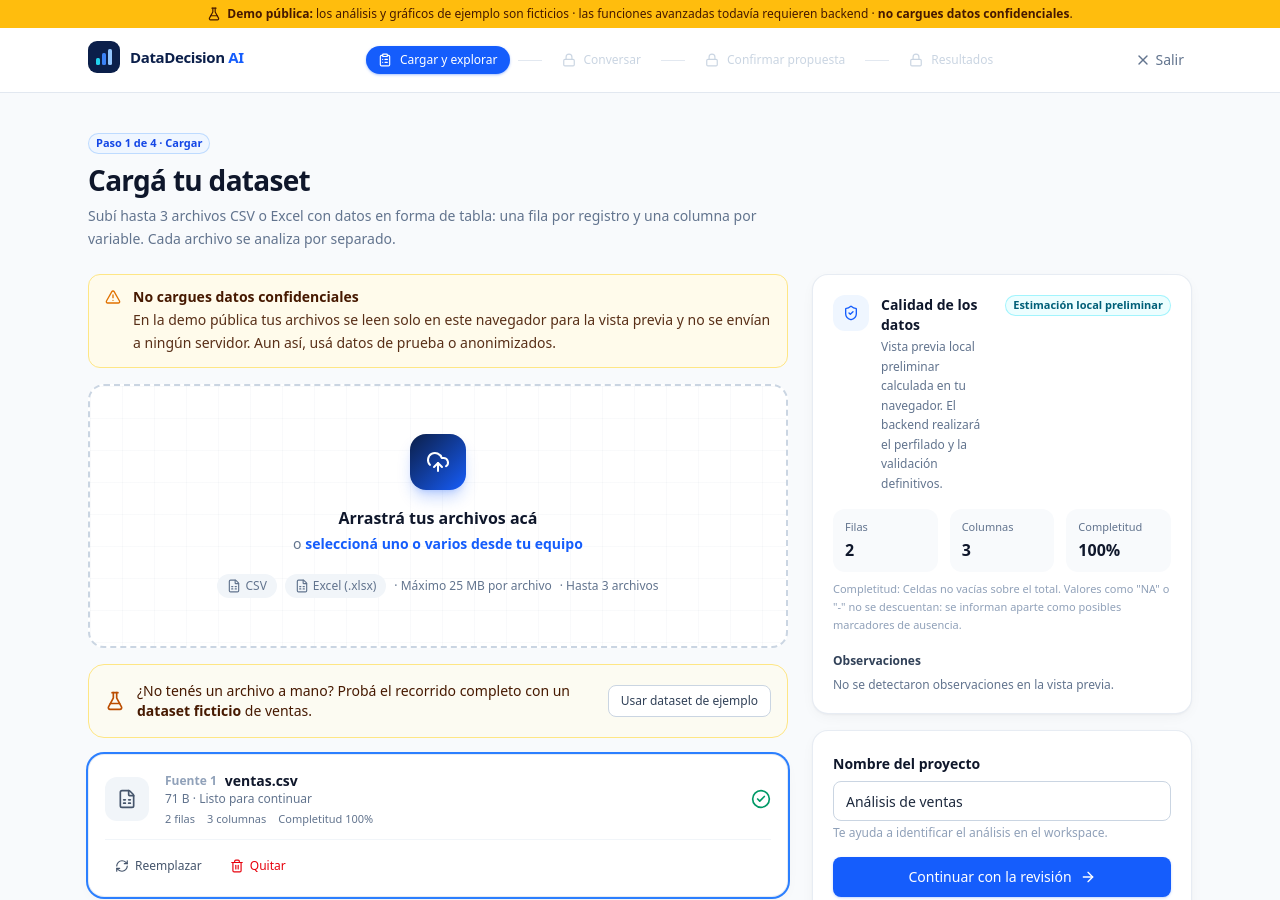
it: flujo simplificado: el objetivo se cuenta una sola vez › el análisis descriptivo sin IA arma una propuesta confirmable sin enviar nada a OpenAI
The width and height of the screenshot is (1280, 900).
Earlier steps of the test are not shown.
Later steps or results of the test are not shown.
Expected: the number of icons named "Archivo listo" is 1, [751, 789, 771, 809]
Click the button "Continuar con la revisión" at [1002, 878], box [833, 858, 1171, 898]
(page scrolled)
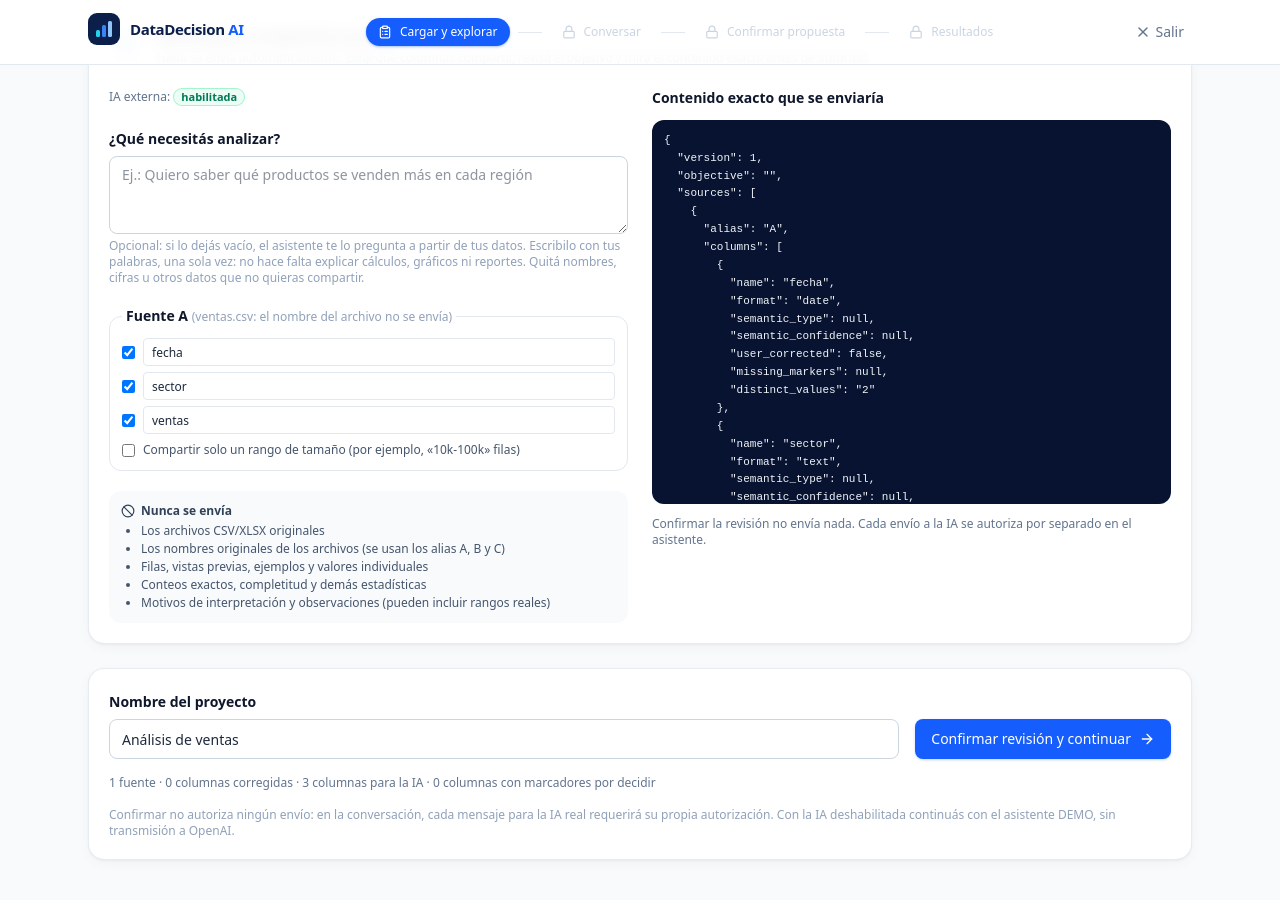
Click the button "Confirmar revisión y continuar" at [1043, 740], box [915, 720, 1171, 760]
(page scrolled)
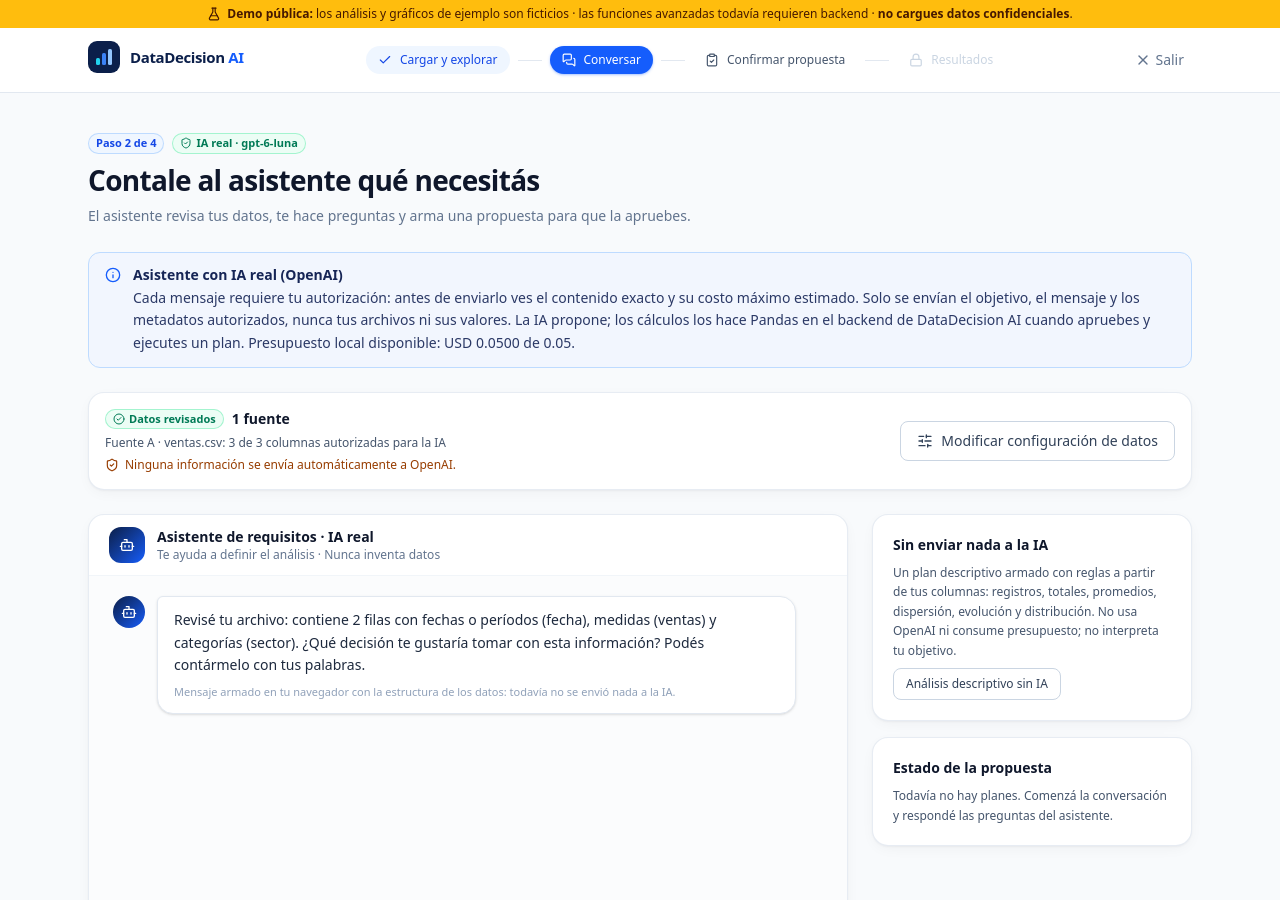
Expected: the text "IA real · gpt-6-luna" is shown, [172, 133, 306, 154]
Click the button "Análisis descriptivo sin IA" at [977, 684], box [893, 668, 1061, 700]
(page scrolled)
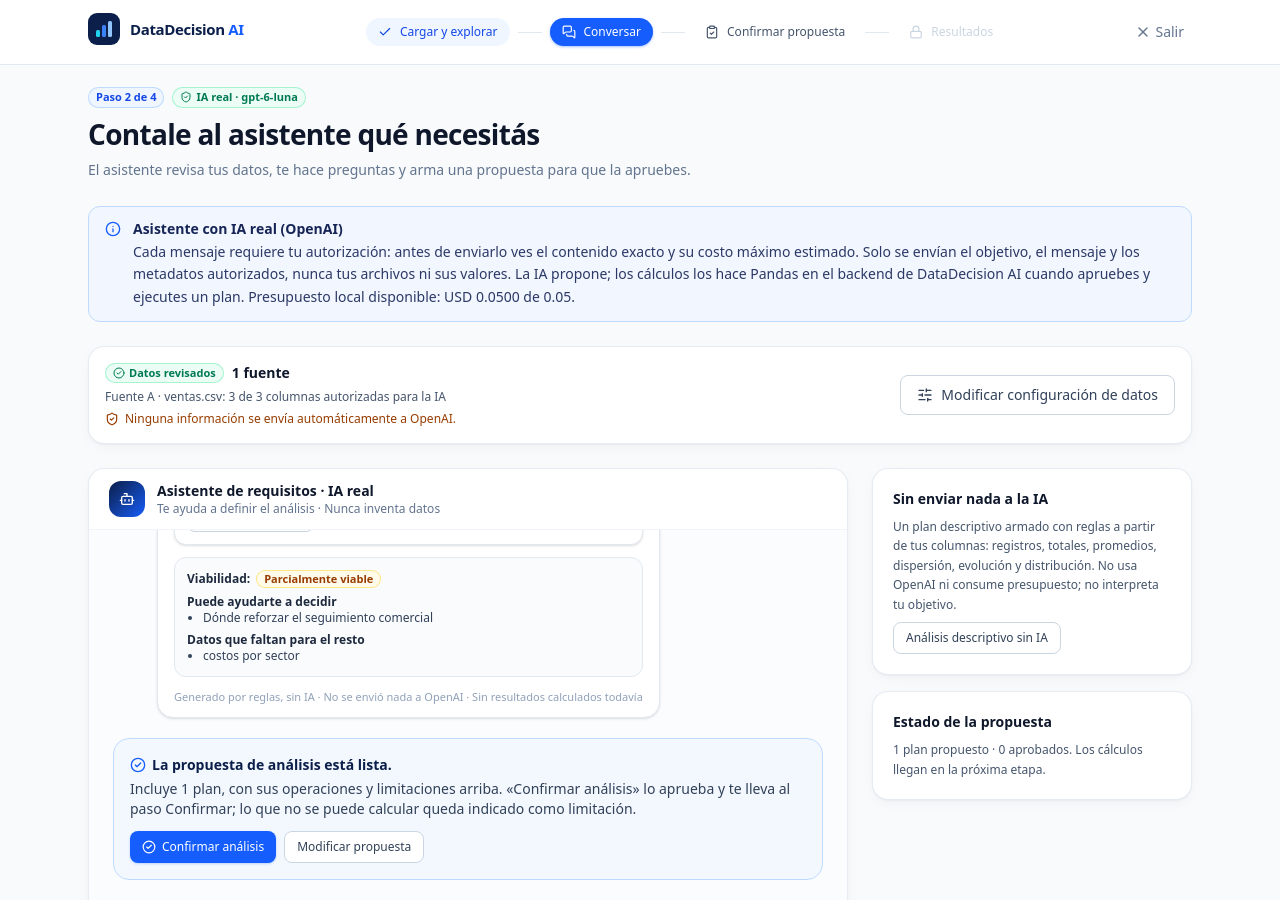
Expected: the text "Generado por reglas, sin IA · No se envió nada a OpenAI" is shown, [174, 689, 643, 704]
